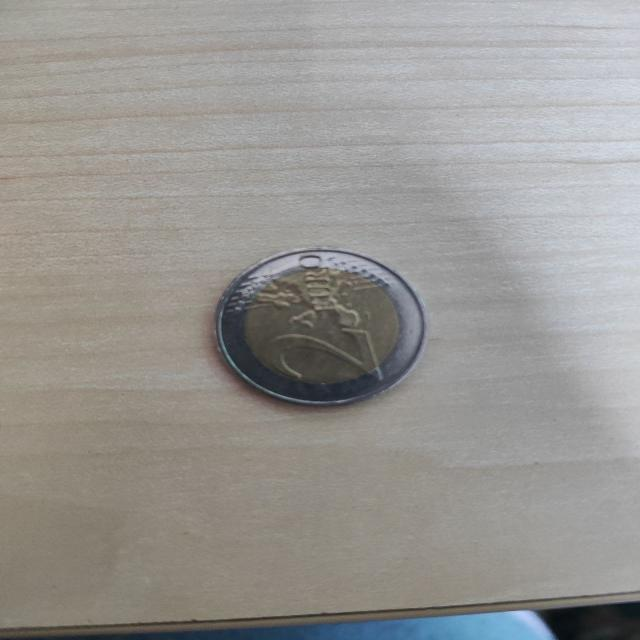Circle: (218, 245, 431, 411)
